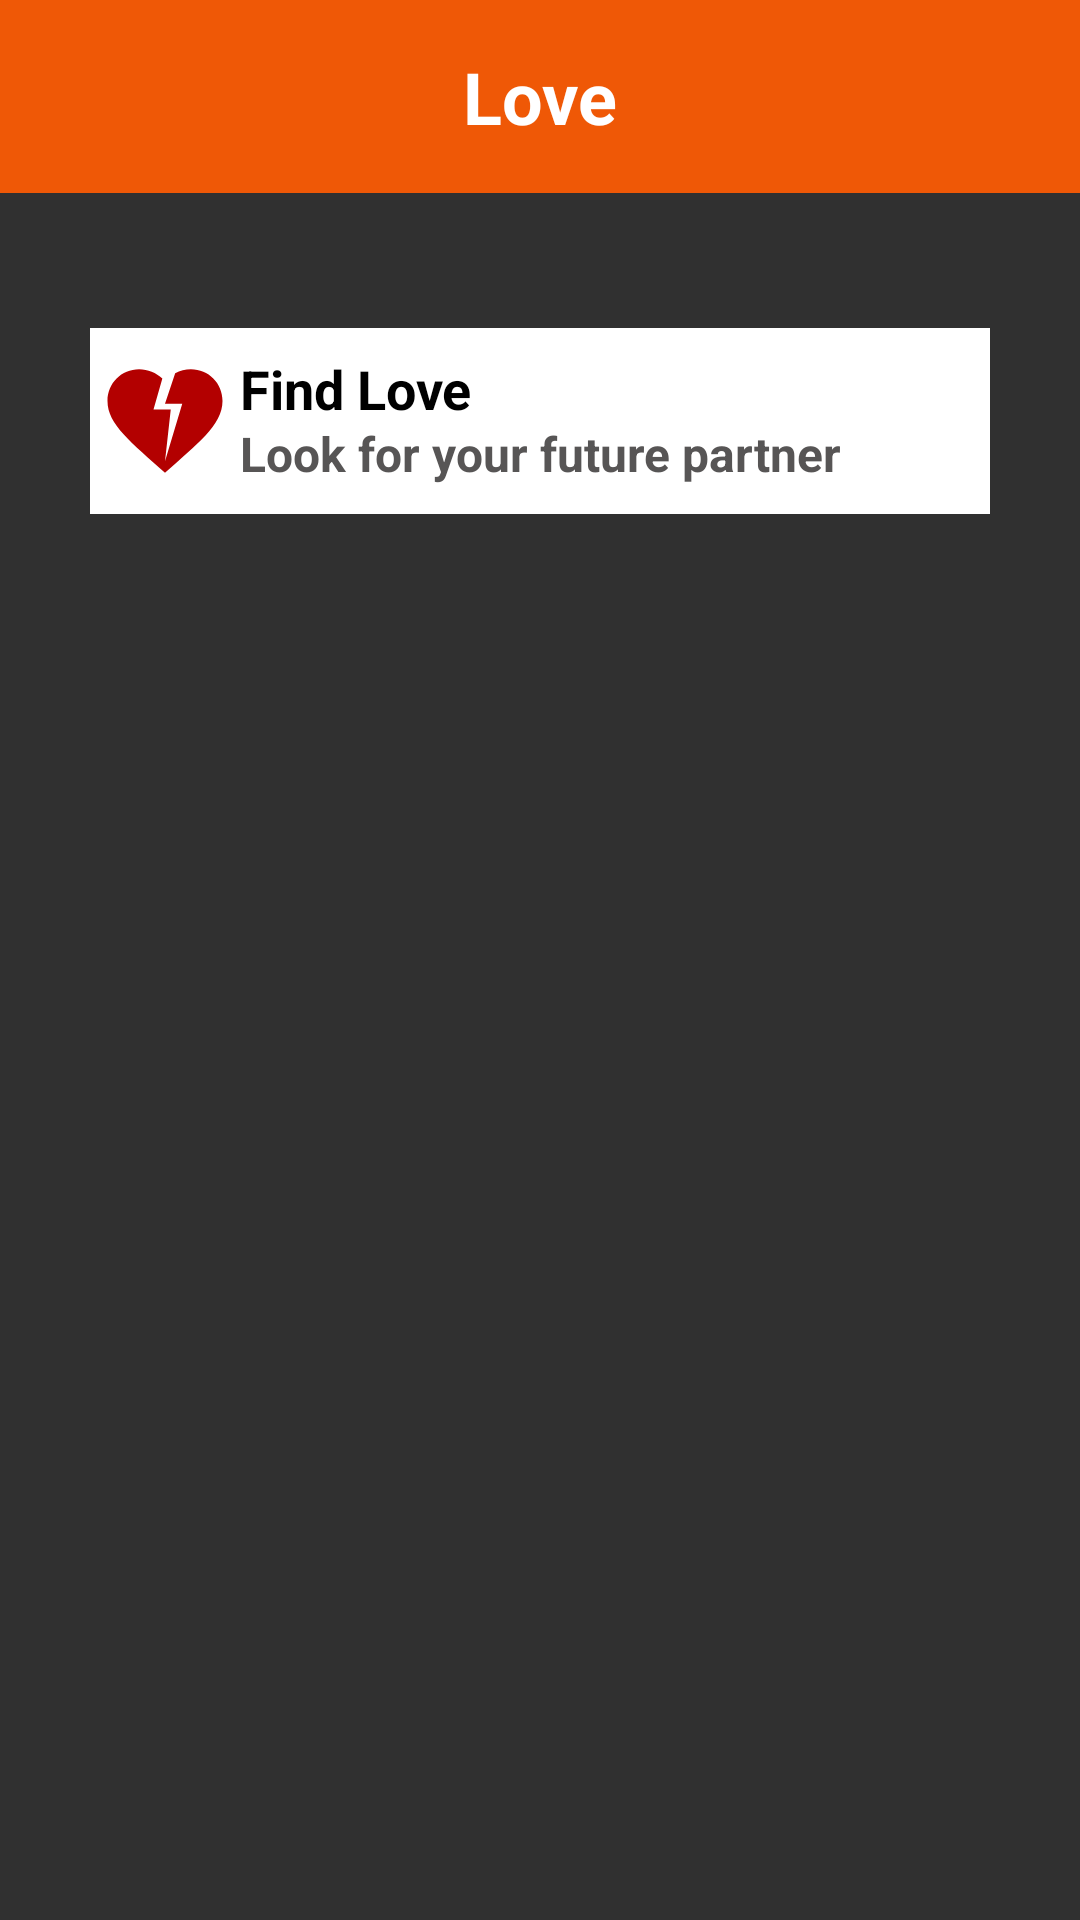

Screen size 1080px×1920px. Icon name, then its center in pixels as [x,y]:
heart: [165,421]
